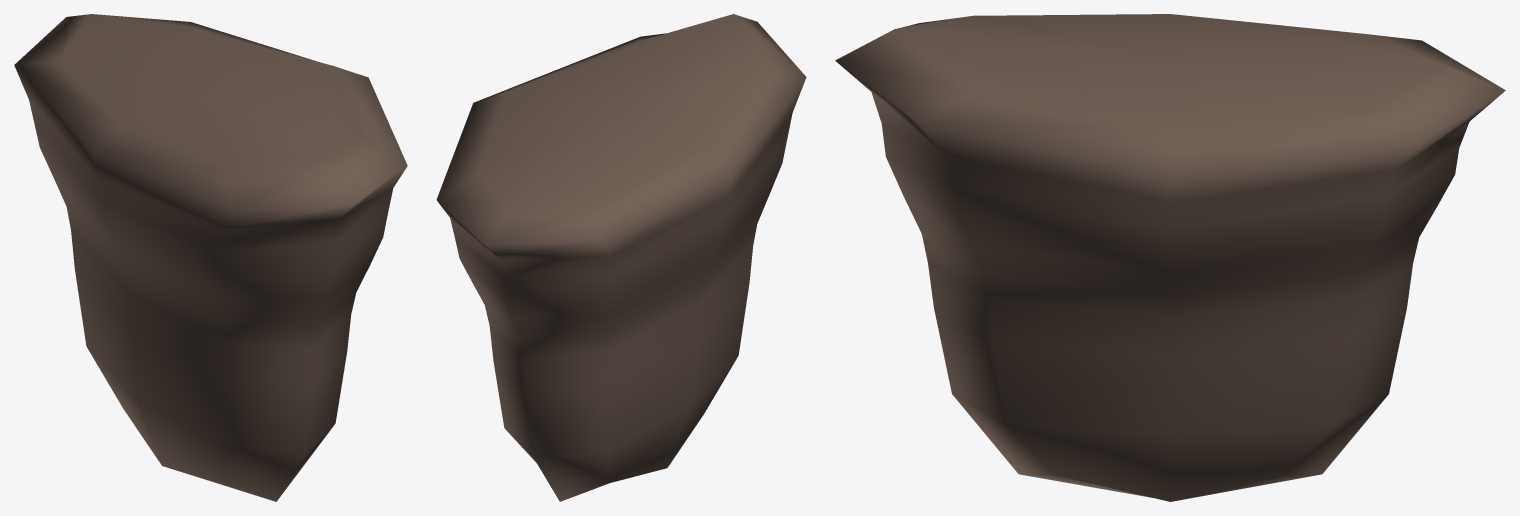
The model's file is SM_Stone5.fbx.
3 renders of one model, left to right at view 1: azimuth 30°, elevation 25°; view 2: azimuth 150°, elevation 25°; view 3: azimuth 270°, elevation 25°, orthographic. The views are drawn at different scales.
Visible parts, largest first — view 1: SM_Stone_5; view 2: SM_Stone_5; view 3: SM_Stone_5.
Boxes of the visible parts, x1,y1,x2,y2 form: SM_Stone_5: [14, 14, 407, 501]; SM_Stone_5: [436, 14, 806, 501]; SM_Stone_5: [835, 14, 1505, 501].
Size of the model in its own units: 8930 by 12517 by 16132.
